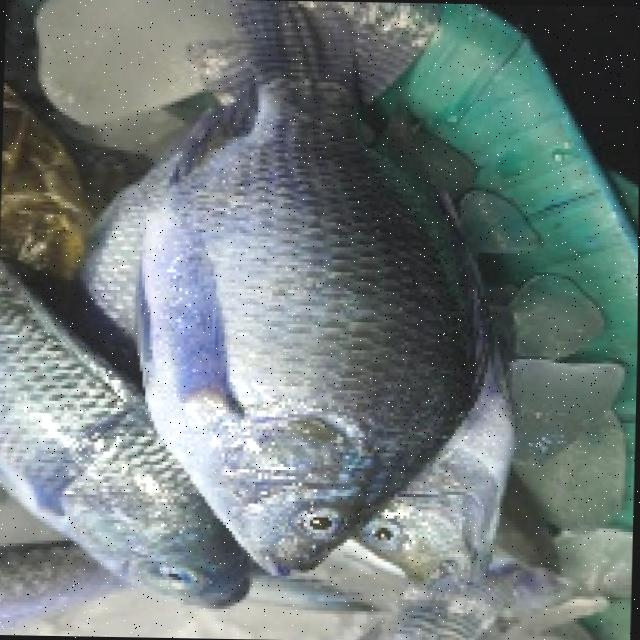Fresh: (134, 134, 457, 577)
